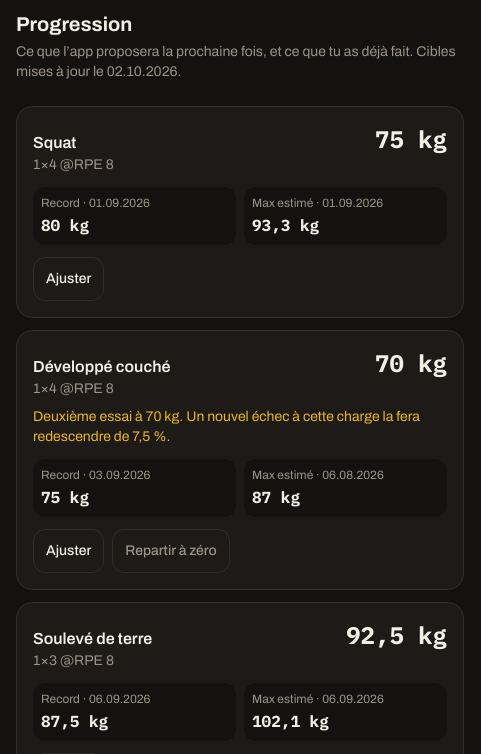
Scenario: ajustement en feuille basse › efface un échec en attente à la demande
The width and height of the screenshot is (481, 754).
Step 1. Click the button "Repartir à zéro" → (171, 551), box [112,529,230,573]
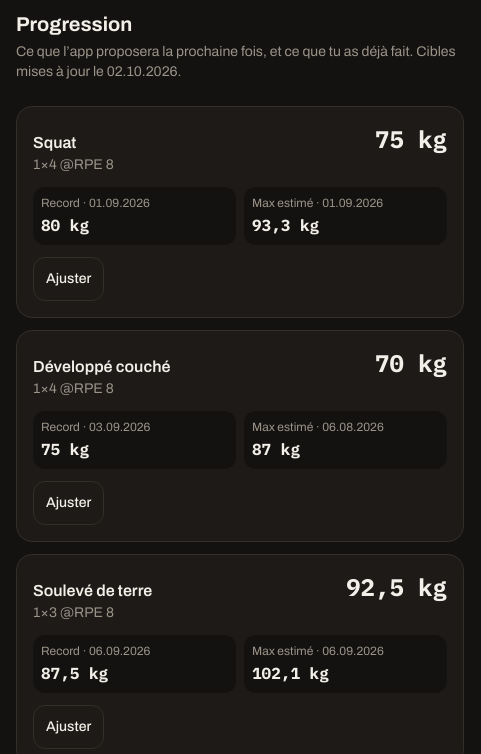
Check: the text "Deuxième essai" is gone
